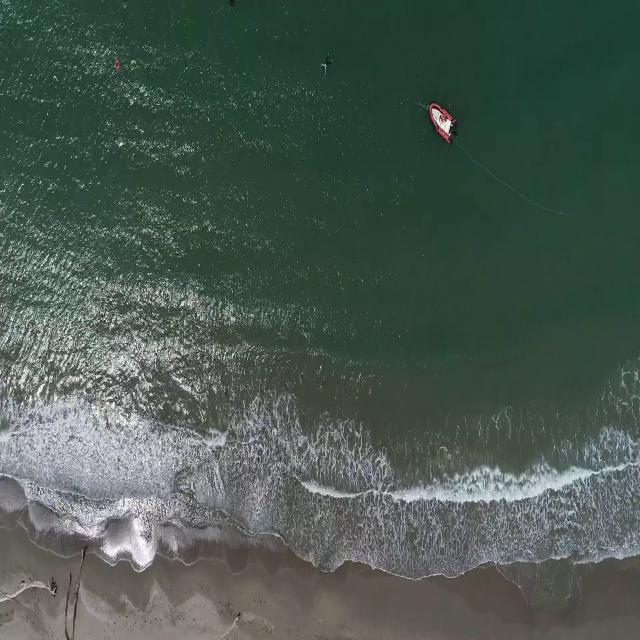boat: (429, 100, 456, 146)
life_buoy: (112, 58, 121, 70)
person: (320, 54, 334, 79)
wood: (176, 611, 243, 640), (65, 546, 86, 638), (0, 578, 62, 602)
